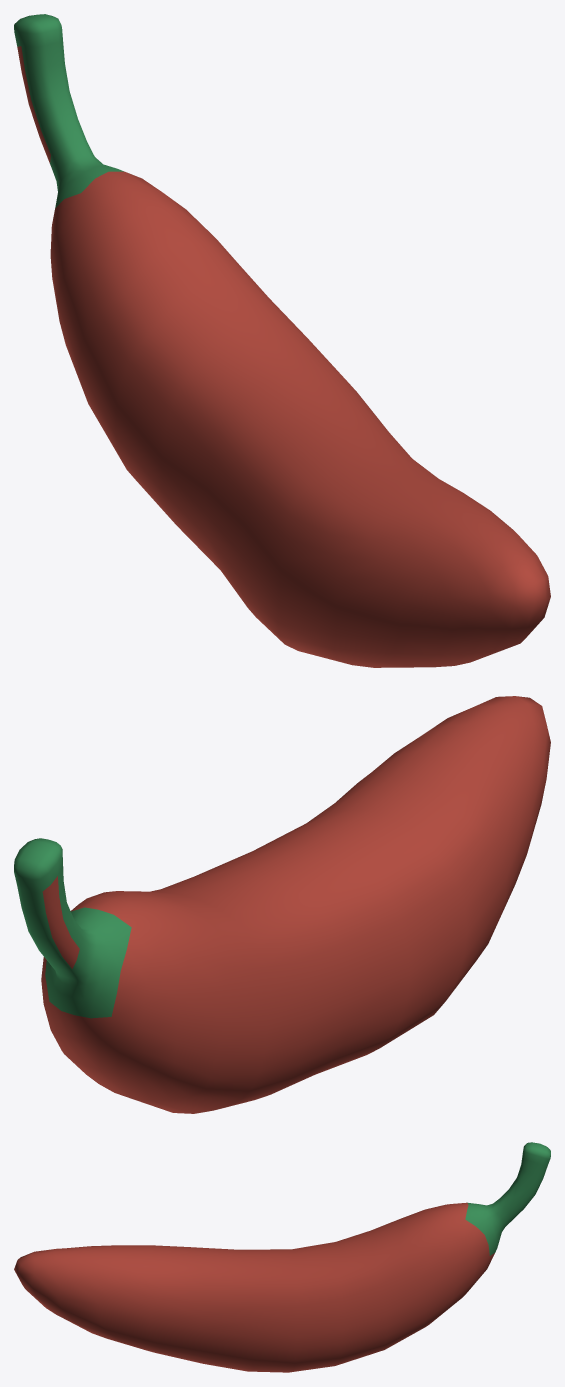
Rendered from Chilli_02.dae.
The picture shows the model from 3 angles, top to bottom: view 1: azimuth 30°, elevation 25°; view 2: azimuth 150°, elevation 25°; view 3: azimuth 270°, elevation 25°; orthographic projection. The views are drawn at different scales.
Visible parts, largest first — view 1: Chilli_02_LOD0; view 2: Chilli_02_LOD0; view 3: Chilli_02_LOD0.
Boxes of the visible parts, box(x1,y1,x2,y2) form: Chilli_02_LOD0: box(14, 14, 550, 667); Chilli_02_LOD0: box(14, 696, 550, 1113); Chilli_02_LOD0: box(14, 1142, 550, 1372).
Size of what is drawn, in the model's own units: 1.22 by 5.31 by 2.4.
